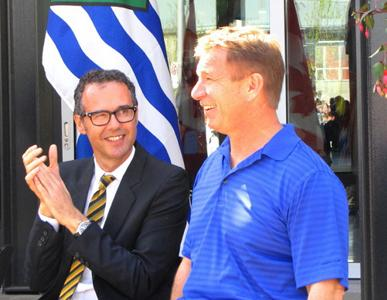person: (22, 66, 193, 300)
